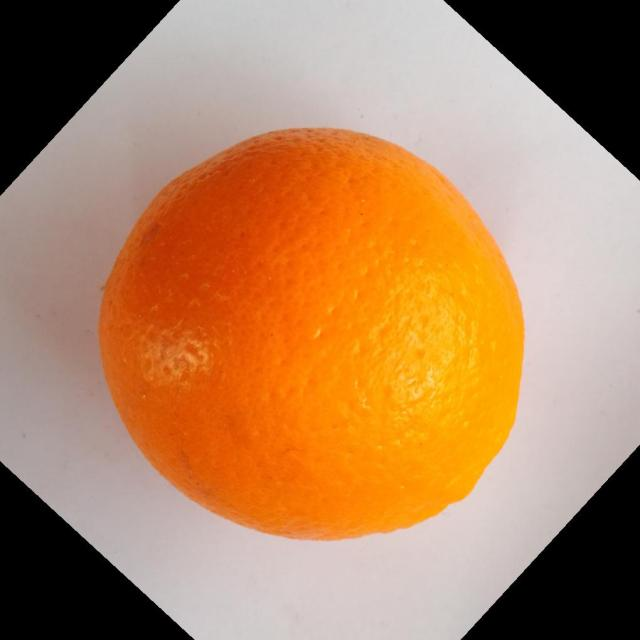fresh orange: (96, 125, 526, 541)
